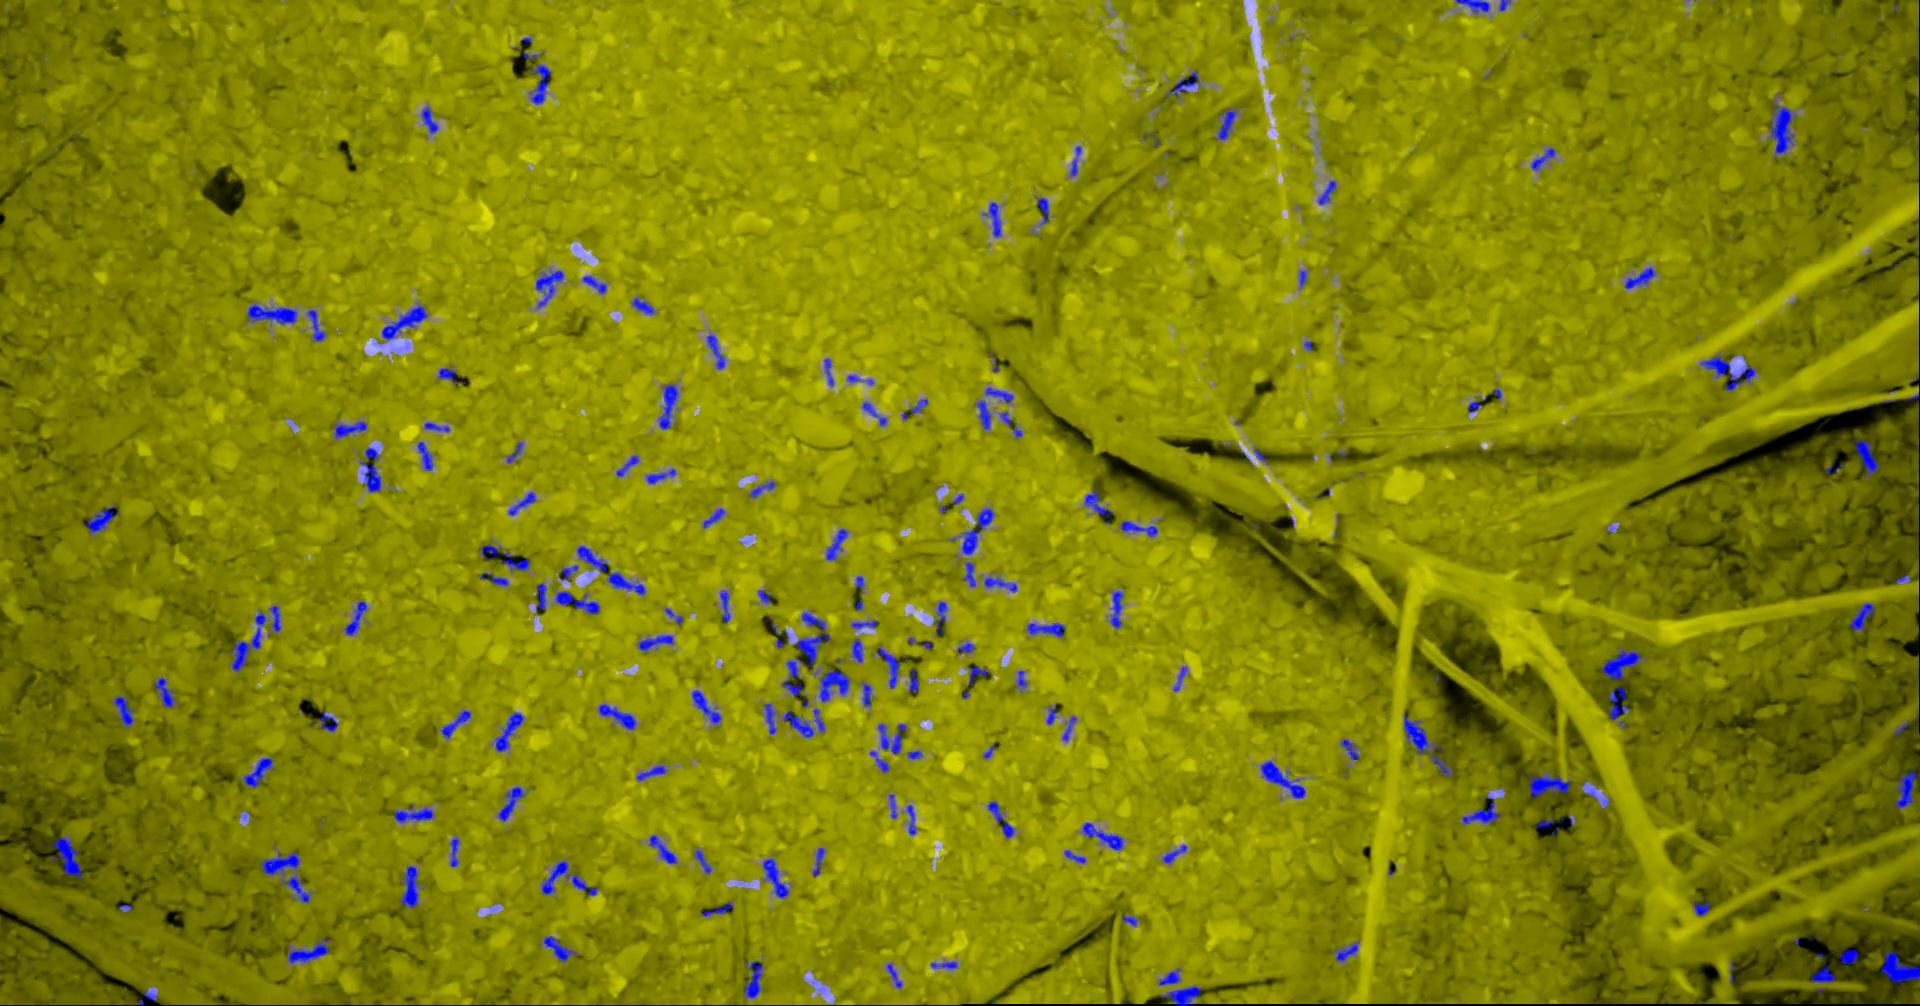ant: (577, 545, 645, 594), (1403, 713, 1451, 776), (259, 851, 310, 903), (229, 611, 265, 671), (1699, 354, 1757, 390), (541, 860, 597, 895), (795, 611, 829, 667), (1260, 760, 1305, 798), (957, 507, 994, 554), (381, 304, 427, 340), (1769, 100, 1796, 158), (50, 836, 83, 879), (1601, 648, 1644, 680), (1879, 951, 1919, 982), (1462, 793, 1498, 824), (1082, 822, 1123, 850), (286, 937, 330, 963), (1528, 771, 1570, 798), (494, 713, 523, 751), (691, 688, 721, 724), (762, 857, 789, 898), (987, 800, 1015, 838), (597, 702, 636, 729), (246, 304, 297, 324), (535, 271, 563, 307), (1853, 439, 1879, 478), (555, 591, 599, 614), (875, 647, 899, 688), (818, 669, 850, 701), (1164, 70, 1199, 99), (85, 504, 119, 533), (436, 709, 470, 738), (497, 786, 526, 821), (1083, 489, 1111, 525), (657, 384, 678, 429), (527, 64, 550, 104), (243, 757, 273, 788), (1895, 771, 1919, 808), (877, 723, 905, 754), (543, 935, 577, 962), (1159, 984, 1201, 1005), (781, 657, 803, 696), (392, 803, 433, 823), (399, 865, 418, 908), (782, 710, 813, 737), (1608, 686, 1627, 728), (648, 835, 676, 862), (344, 600, 366, 635), (112, 694, 135, 727), (1848, 602, 1873, 631), (743, 960, 762, 998), (982, 201, 1001, 238), (1624, 265, 1655, 288), (152, 677, 175, 708), (359, 460, 381, 492), (825, 528, 847, 560), (706, 334, 725, 370), (497, 551, 530, 572), (998, 412, 1022, 438), (507, 492, 535, 514), (331, 420, 367, 438), (637, 634, 673, 652), (1217, 107, 1236, 140), (1119, 520, 1157, 536), (861, 401, 886, 426), (306, 309, 325, 340), (1530, 147, 1556, 170), (1026, 622, 1065, 636), (902, 398, 927, 419), (983, 575, 1016, 592), (635, 763, 667, 780), (615, 453, 637, 476), (975, 399, 990, 431), (1110, 589, 1123, 627), (984, 386, 1013, 403), (417, 441, 433, 470), (702, 507, 724, 528), (645, 467, 676, 483), (869, 749, 889, 772), (422, 105, 438, 133), (1317, 180, 1336, 205), (1162, 843, 1186, 862), (1454, 0, 1490, 13), (749, 480, 775, 498), (763, 702, 777, 734), (701, 902, 733, 916), (885, 962, 902, 988), (1335, 942, 1357, 962), (582, 276, 606, 293), (631, 296, 655, 314), (693, 848, 711, 873), (933, 601, 946, 634), (1810, 965, 1835, 982), (1340, 738, 1359, 760), (479, 572, 508, 586), (811, 847, 825, 876), (437, 367, 461, 384), (479, 544, 502, 560), (719, 589, 730, 622), (1157, 968, 1180, 984), (1069, 145, 1081, 177), (968, 666, 987, 685), (1172, 666, 1186, 691), (535, 582, 546, 612), (319, 711, 337, 730), (1062, 716, 1076, 741), (505, 442, 522, 462), (557, 564, 578, 580), (663, 607, 683, 624), (963, 561, 975, 587), (811, 708, 824, 733), (1036, 197, 1048, 225), (1839, 948, 1858, 964), (138, 988, 157, 1005), (905, 804, 916, 835), (268, 605, 279, 631), (1063, 848, 1084, 862), (861, 681, 872, 706), (823, 358, 833, 386), (846, 373, 872, 384), (450, 836, 458, 866), (1691, 901, 1709, 916), (851, 639, 862, 662), (850, 620, 877, 629), (908, 668, 918, 692), (423, 422, 450, 431), (888, 794, 897, 818), (1046, 704, 1057, 724), (956, 641, 974, 653), (364, 447, 378, 461), (1016, 669, 1026, 688), (1535, 818, 1554, 828), (757, 589, 770, 603), (930, 962, 957, 968), (1467, 400, 1482, 412), (905, 749, 922, 760), (1121, 915, 1137, 925), (1298, 269, 1305, 287), (1917, 434, 1919, 495)
